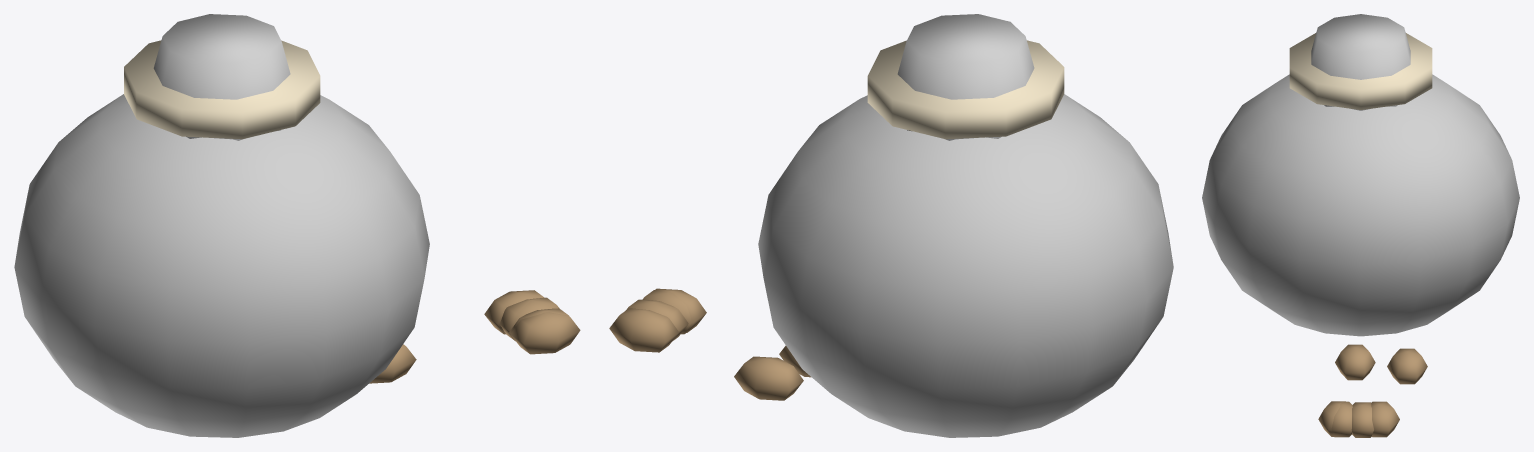
The model's file is SM_Item_seeds_flax.gltf.
3 views of the same model, side by side, from view 1: azimuth 30°, elevation 25°; view 2: azimuth 150°, elevation 25°; view 3: azimuth 270°, elevation 25° (orthographic). The views are drawn at different scales.
Visible parts, largest first — view 1: SM_Item_seeds_flax; view 2: SM_Item_seeds_flax; view 3: SM_Item_seeds_flax.
Part boxes in pixels (bbox=[...]): SM_Item_seeds_flax: bbox=[14, 14, 580, 437]; SM_Item_seeds_flax: bbox=[609, 14, 1173, 437]; SM_Item_seeds_flax: bbox=[1202, 14, 1519, 437].
Bounding box in the file's own units: 0.2009 × 0.1395 × 0.14.
